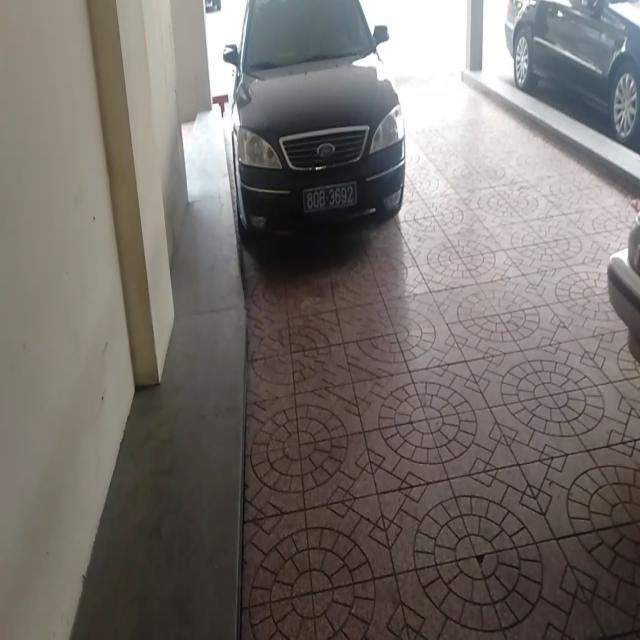bien_xanh: (299, 180, 360, 208)
